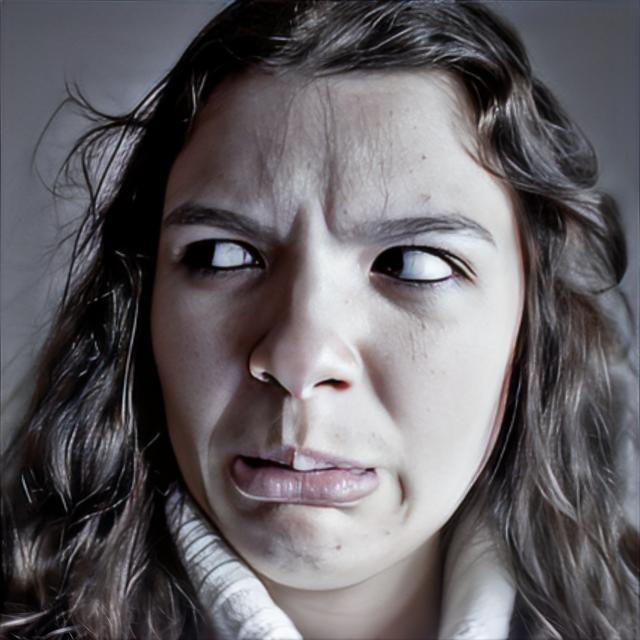disgust: (148, 60, 528, 594)
